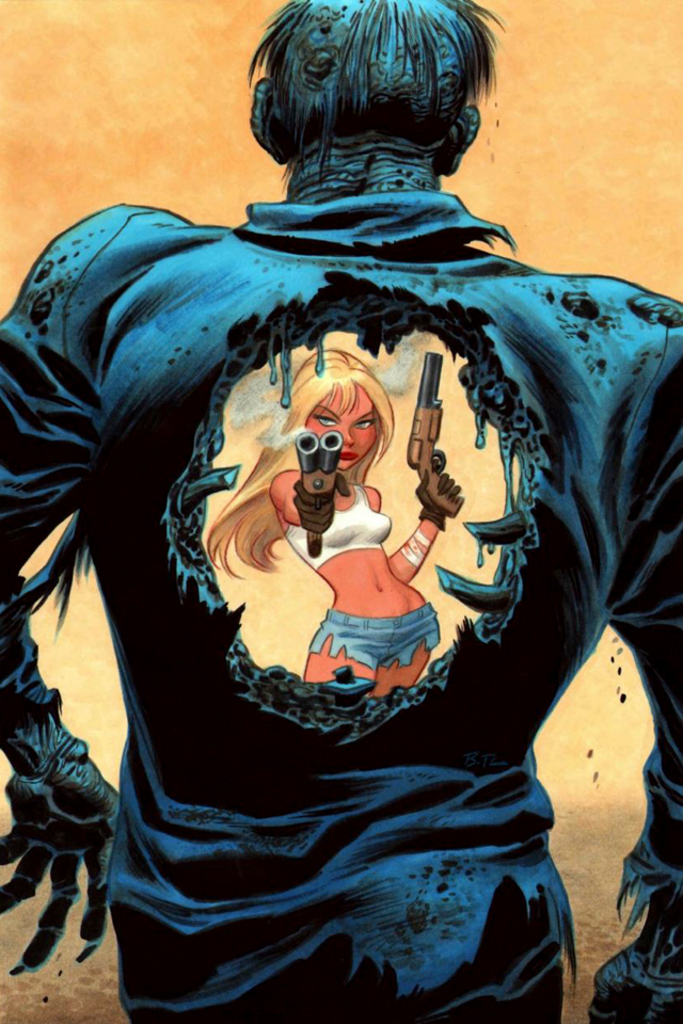Human-face: (308, 393, 383, 467)
